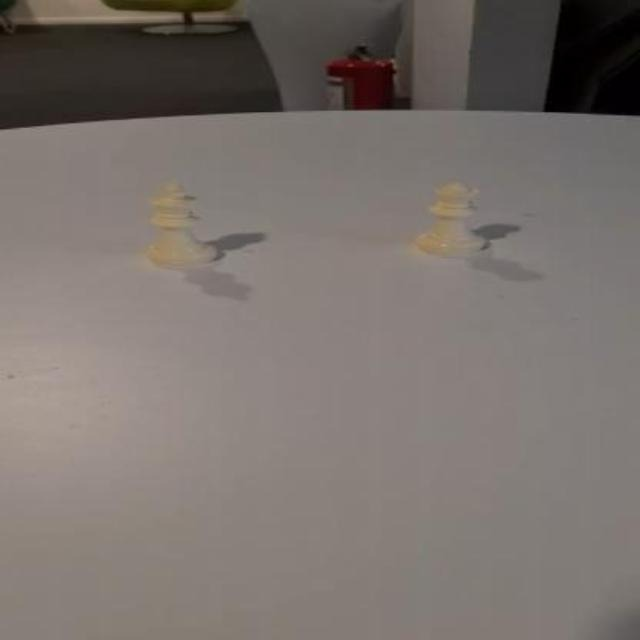white-king: (136, 179, 225, 266)
white-queen: (407, 176, 497, 256)
